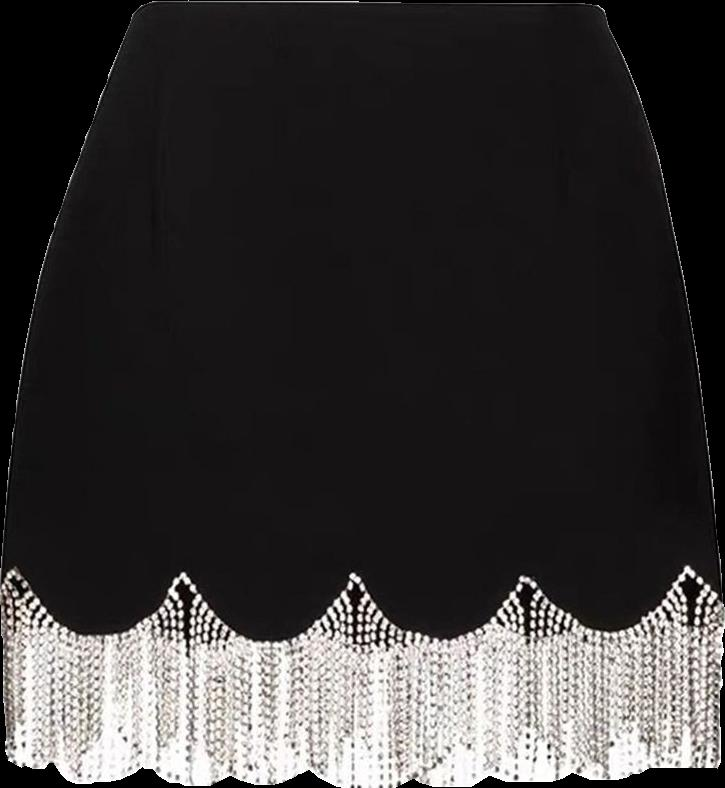Hemline: (0, 749, 721, 787)
Waistline: (0, 563, 720, 647), (132, 0, 604, 14)
